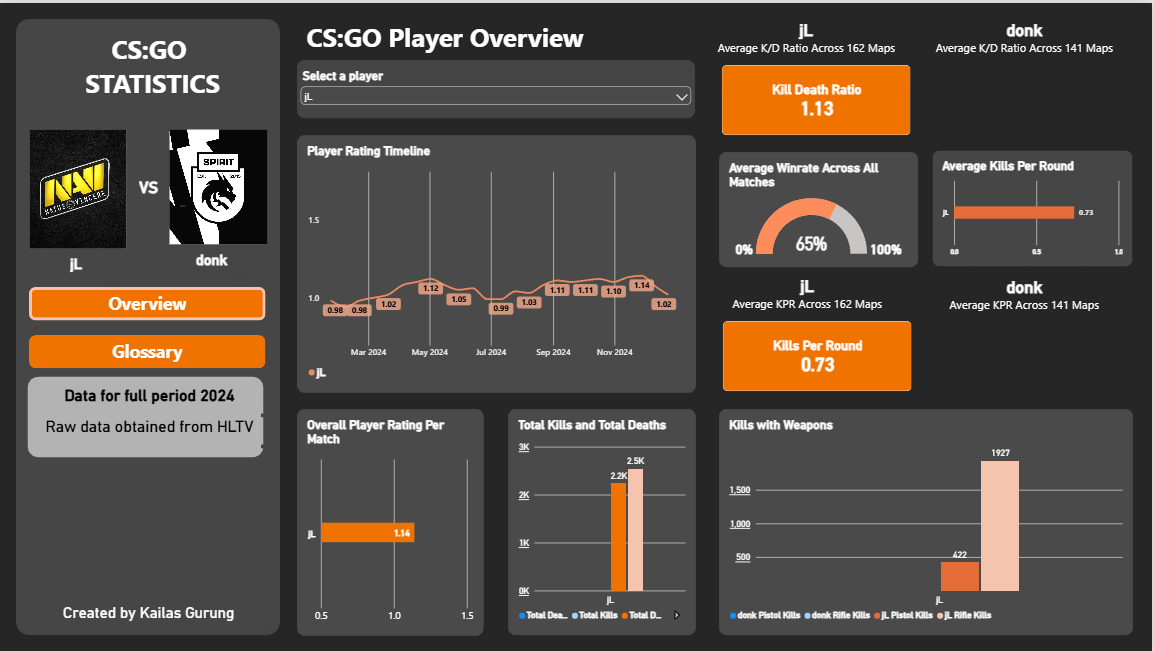

Layout of this report page (visuals, bound fields, positions):
{"tool":"powerbi","page":{"name":"Overview","canvas":[1920,1080],"ordinal":0},"visuals":[{"type":"shape","box":[26.7,26.7,440,1026.7],"z":0},{"type":"textbox","box":[53.3,46.7,401.7,145],"z":1000},{"type":"actionButton","box":[48.3,473.1,394.3,55.7],"z":2000},{"type":"actionButton","box":[48.3,553.3,394.3,55.7],"z":3000},{"type":"textbox","box":[495,26.7,492.9,62.9],"z":4000},{"type":"slicer","fields":{"Values":["Player Statistics.PLAYER_NAME"]},"box":[495.6,95.6,663.3,96.7],"z":5000},{"type":"clusteredBarChart","title":"Overall Player Rating Per Match","fields":{"Category":["Player Statistics.PLAYER_NAME"],"Y":["Avg(Player Statistics.RATING_2_1)"]},"box":[495,676.2,311.2,377.5],"z":6000},{"type":"lineChart","title":"Player Rating Timeline","fields":{"Category":["Sheet1.DATE"],"Series":["Sheet1.PLAYER_NAME"],"Y":["Sum(Sheet1.RATING)"]},"box":[495,220,665,430],"z":7000},{"type":"gauge","title":"Average Winrate Across All Matches ","fields":{"Y":["Avg(Player Statistics.WINRATE)"]},"box":[1198.3,248.3,331.7,191.7],"z":8000},{"type":"image","box":[48.3,210,163.3,200],"z":9000},{"type":"image","box":[281.7,210,165,193.3],"z":10000},{"type":"cardVisual","title":"jL","fields":{"Data":["Sum(Player Statistics.KILL_DEATH_RATIO)"],"Rows":["Player Statistics.PLAYER_NAME"]},"box":[1170,8.3,347.8,212.2],"z":11000},{"type":"cardVisual","title":"donk","fields":{"Data":["Sum(Player Statistics.KILL_DEATH_RATIO)"],"Rows":["Player Statistics.PLAYER_NAME"]},"box":[1526.7,8.3,361.2,210],"z":12000},{"type":"clusteredColumnChart","title":"Total Kills and Total Deaths","fields":{"Category":["Player Statistics.PLAYER_NAME"],"Y":["Player Rating Timeline.donk Total Deaths","Player Rating Timeline.donk Total Kills","Player Rating Timeline.jL Total Deaths","Player Rating Timeline.jL Total Kills"]},"box":[846.7,676.7,313.3,376.7],"z":13000},{"type":"clusteredBarChart","title":"Average Kills Per Round","fields":{"Category":["Player Statistics.PLAYER_NAME"],"Y":["Sum(Player Statistics.KILLS_PER_ROUND)"]},"box":[1553.3,245,335,195],"z":14000},{"type":"cardVisual","title":"jL","fields":{"Data":["Sum(Player Statistics.KILLS_PER_ROUND)"],"Rows":["Player Statistics.PLAYER_NAME"]},"box":[1171.7,435,347.8,212.2],"z":15000},{"type":"cardVisual","title":"donk","fields":{"Data":["Sum(Player Statistics.KILLS_PER_ROUND)"],"Rows":["Player Statistics.PLAYER_NAME"]},"box":[1526.7,436.7,361.2,210],"z":16000},{"type":"clusteredColumnChart","title":"Kills with Weapons","fields":{"Category":["Player Statistics.PLAYER_NAME"],"Y":["Player Rating Timeline.donk Pistol Kills","Player Rating Timeline.donk Rifle Kills","Player Rating Timeline.jL Pistol Kills","Player Rating Timeline.jL Rifle Kills"]},"box":[1198.3,676.7,690,376.7],"z":17000},{"type":"textbox","title":"VS","box":[231.7,291.7,76.7,48.3],"z":18000},{"type":"shape","box":[45,621.7,395,136.7],"z":19000},{"type":"textbox","title":"Data for full period 2024","box":[55,638.3,388.3,51.7],"z":20000},{"type":"textbox","title":"Raw data obtained from HLTV","box":[55,690,388.3,51.7],"z":21000},{"type":"textbox","title":"Created by Kailas Gurung","box":[46.7,1001.7,401.7,51.7],"z":22000},{"type":"textbox","title":"jL","box":[116.7,421.7,76.7,48.3],"z":23000},{"type":"textbox","title":"donk","box":[326.7,415,76.7,48.3],"z":24000}]}

Visuals, with their boxes in screenshot pixels (x1, y1, x2, y2), scaled from the page's 1920x1080 canvas onto the 1154x651 screenshot:
shape: [16,16,281,635]
textbox: [32,28,273,116]
actionButton: [29,285,266,319]
actionButton: [29,334,266,367]
textbox: [298,16,594,54]
slicer - Player Statistics.PLAYER_NAME: [298,58,697,116]
"Overall Player Rating Per Match" clusteredBarChart: [298,408,485,635]
"Player Rating Timeline" lineChart: [298,133,697,392]
"Average Winrate Across All Matches " gauge: [720,150,920,265]
image: [29,127,127,247]
image: [169,127,268,243]
"jL" cardVisual: [703,5,912,133]
"donk" cardVisual: [918,5,1135,132]
"Total Kills and Total Deaths" clusteredColumnChart: [509,408,697,635]
"Average Kills Per Round" clusteredBarChart: [934,148,1135,265]
"jL" cardVisual: [704,262,913,390]
"donk" cardVisual: [918,263,1135,390]
"Kills with Weapons" clusteredColumnChart: [720,408,1135,635]
"VS" textbox: [139,176,185,205]
shape: [27,375,264,457]
"Data for full period 2024" textbox: [33,385,266,416]
"Raw data obtained from HLTV" textbox: [33,416,266,447]
"Created by Kailas Gurung" textbox: [28,604,270,635]
"jL" textbox: [70,254,116,283]
"donk" textbox: [196,250,242,279]
